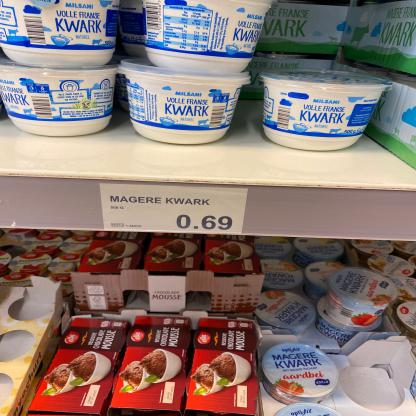prtg: (100, 184, 249, 235)
